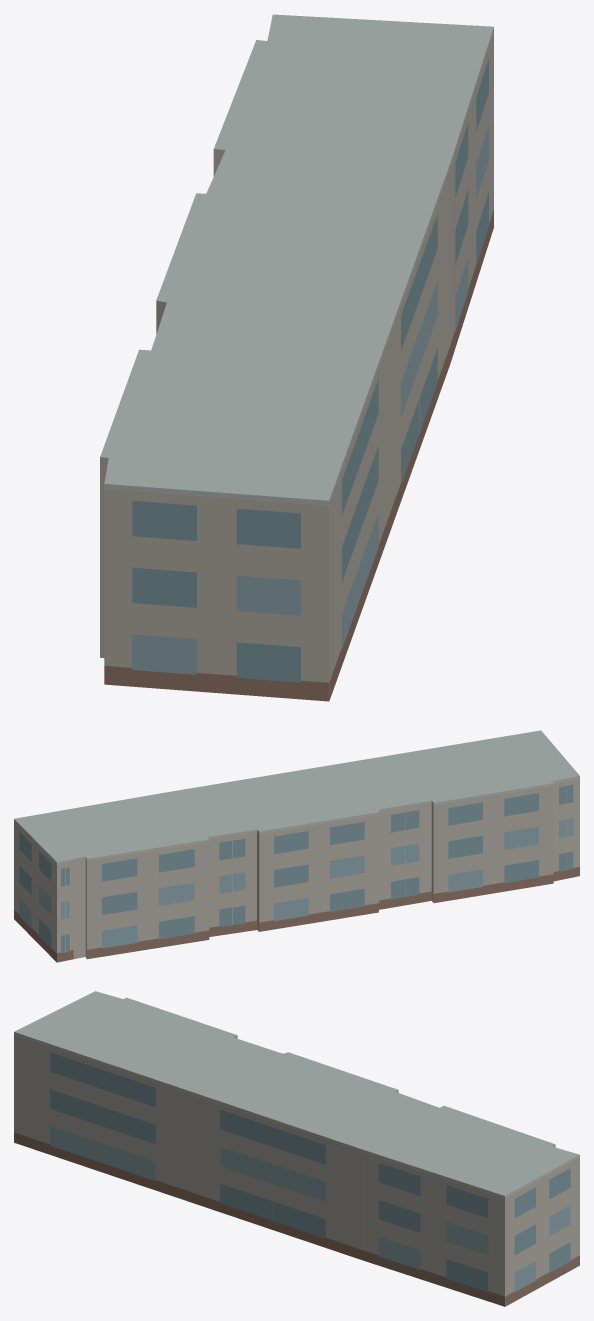
File: survey-upis-32769224.glb
3 views of the same model, one above another, from view 1: azimuth 30°, elevation 25°; view 2: azimuth 150°, elevation 25°; view 3: azimuth 270°, elevation 25° (orthographic). The views are drawn at different scales.
Parts seen in each view (by area): view 1: survey-upis-32769224.tmp; view 2: survey-upis-32769224.tmp; view 3: survey-upis-32769224.tmp.
Boxes of the visible parts, box(x1,y1,x2,y2) form: survey-upis-32769224.tmp: box(100, 14, 493, 701); survey-upis-32769224.tmp: box(14, 730, 579, 962); survey-upis-32769224.tmp: box(14, 991, 579, 1306).
Bounding box in the file's own units: 36.31 × 9.15 × 42.36.
